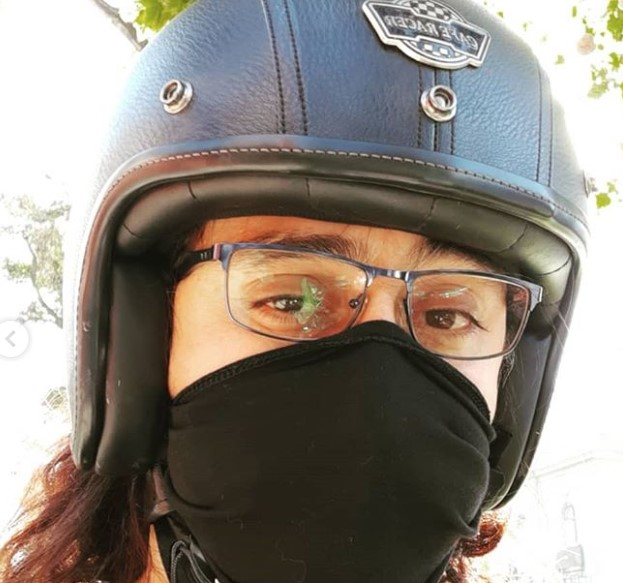face_with_mask: (73, 2, 590, 583)
